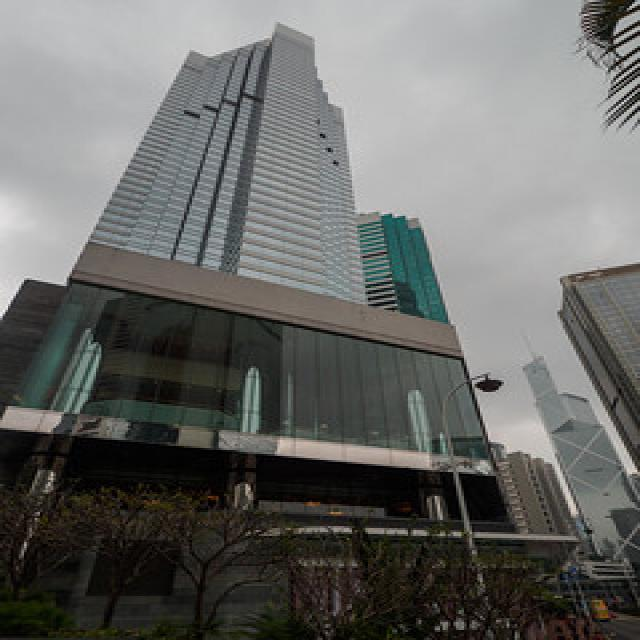Normal_building: (33, 21, 375, 639)
